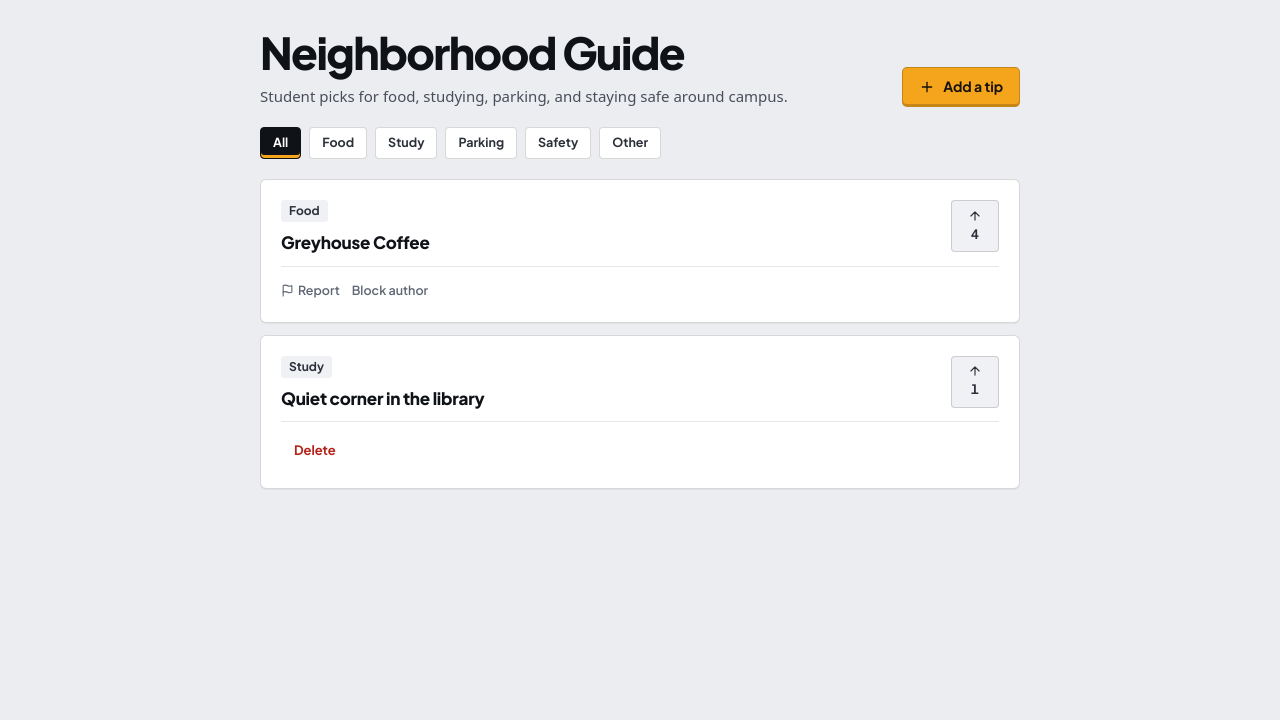
Test: Guide report and block › blocks the author of a tip, then reads the guide again
Check: the heading "Greyhouse Coffee" is shown, box [281,232,430,254]
Click the button "Block author" at (390, 290), box [352,279,428,302]
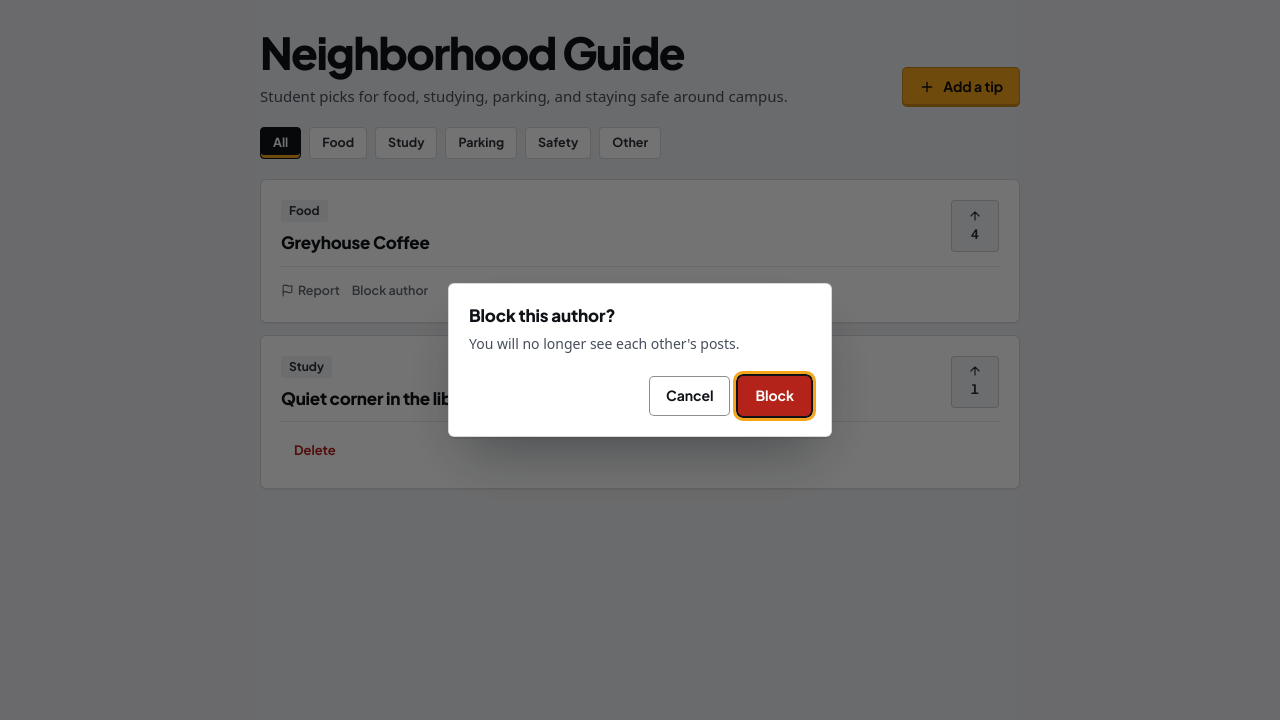
Click the button "Block" at (775, 396), box [738,376,811,416]
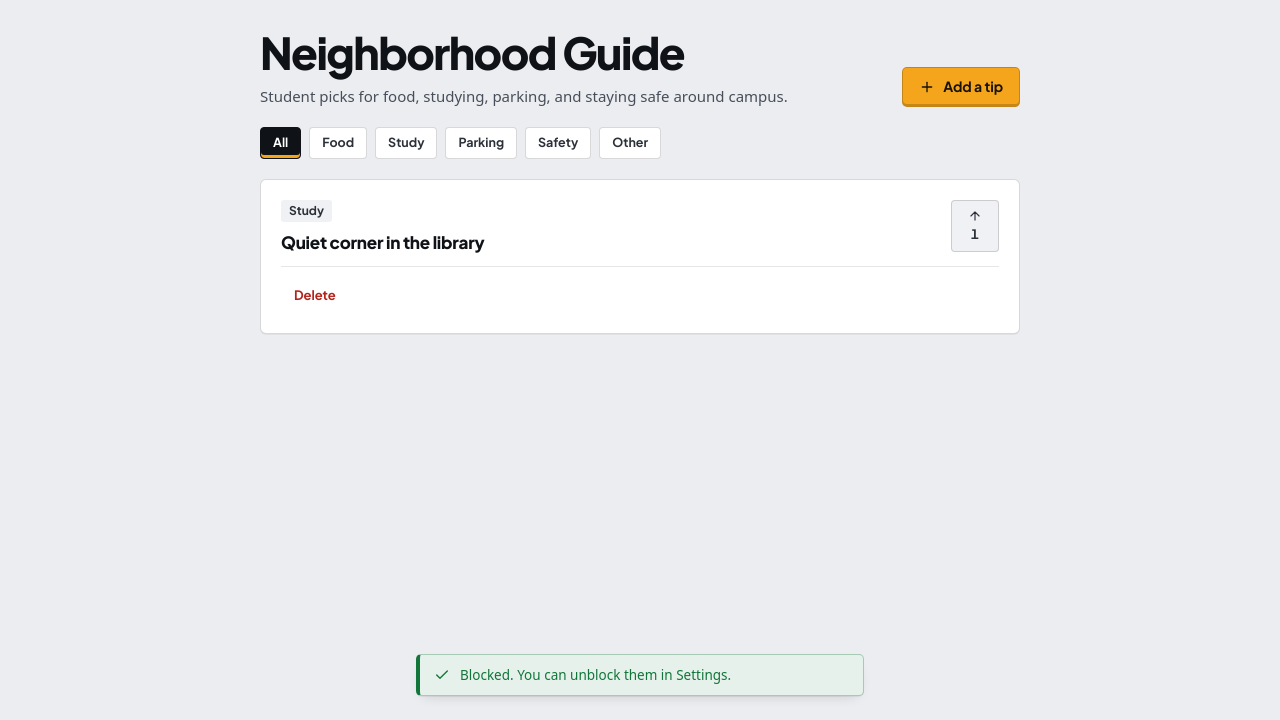
Check: the heading "Greyhouse Coffee" is gone
